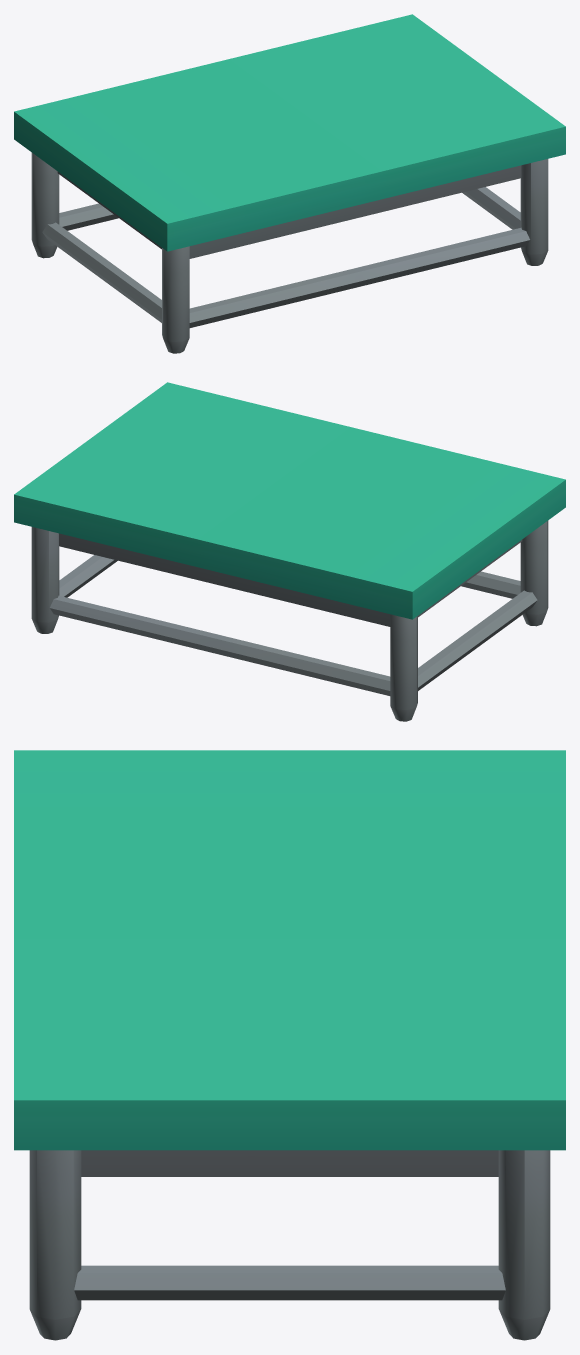
Rendered from kkr.kitchentable_b_large.glb.
The picture shows the model from 3 angles, top to bottom: view 1: azimuth 30°, elevation 25°; view 2: azimuth 150°, elevation 25°; view 3: azimuth 270°, elevation 25°; orthographic projection. The views are drawn at different scales.
Parts seen in each view (by area): view 1: kitchentable_B_large; view 2: kitchentable_B_large; view 3: kitchentable_B_large.
Boxes of the visible parts, left/top/right/bottom form: kitchentable_B_large: left=14, top=14, right=565, bottom=353; kitchentable_B_large: left=14, top=382, right=565, bottom=721; kitchentable_B_large: left=14, top=750, right=565, bottom=1340.
Size of the model in its own units: 2.24 by 0.7479 by 1.49.
1 material, 1 textured.
